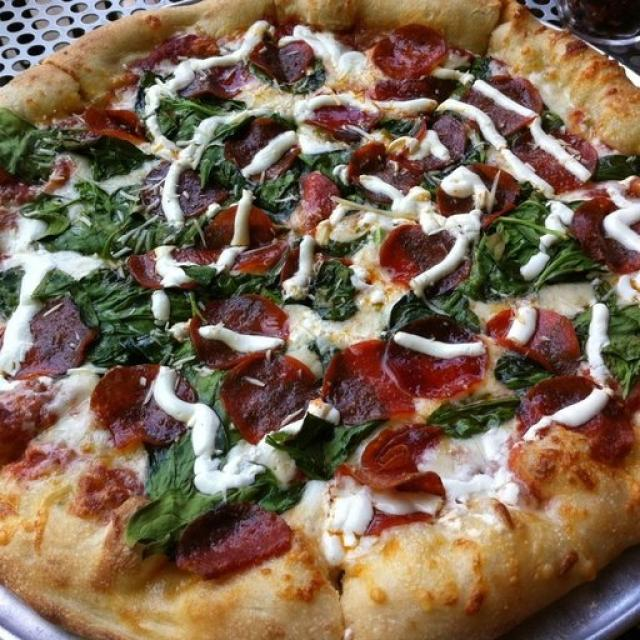Basil: (164, 101, 300, 210), (466, 200, 589, 296), (48, 271, 172, 361), (253, 426, 380, 504), (132, 432, 214, 551), (26, 190, 170, 256), (584, 288, 640, 390), (0, 111, 58, 179), (305, 254, 362, 317), (430, 397, 520, 430), (599, 154, 640, 182)
Pepperoni: (528, 384, 630, 468), (95, 370, 194, 446), (226, 356, 313, 441), (182, 514, 280, 576), (373, 431, 436, 519), (392, 338, 490, 394), (382, 227, 469, 287), (331, 342, 395, 422), (207, 214, 284, 277), (493, 307, 576, 361), (28, 307, 98, 371), (460, 76, 539, 131), (148, 50, 236, 99), (127, 242, 215, 290), (438, 165, 516, 219), (376, 27, 446, 78), (533, 140, 600, 188), (410, 115, 468, 170), (85, 108, 149, 147), (253, 37, 305, 77), (315, 104, 372, 132), (300, 175, 330, 228), (351, 146, 392, 181)
Pizza: (0, 0, 640, 640)
